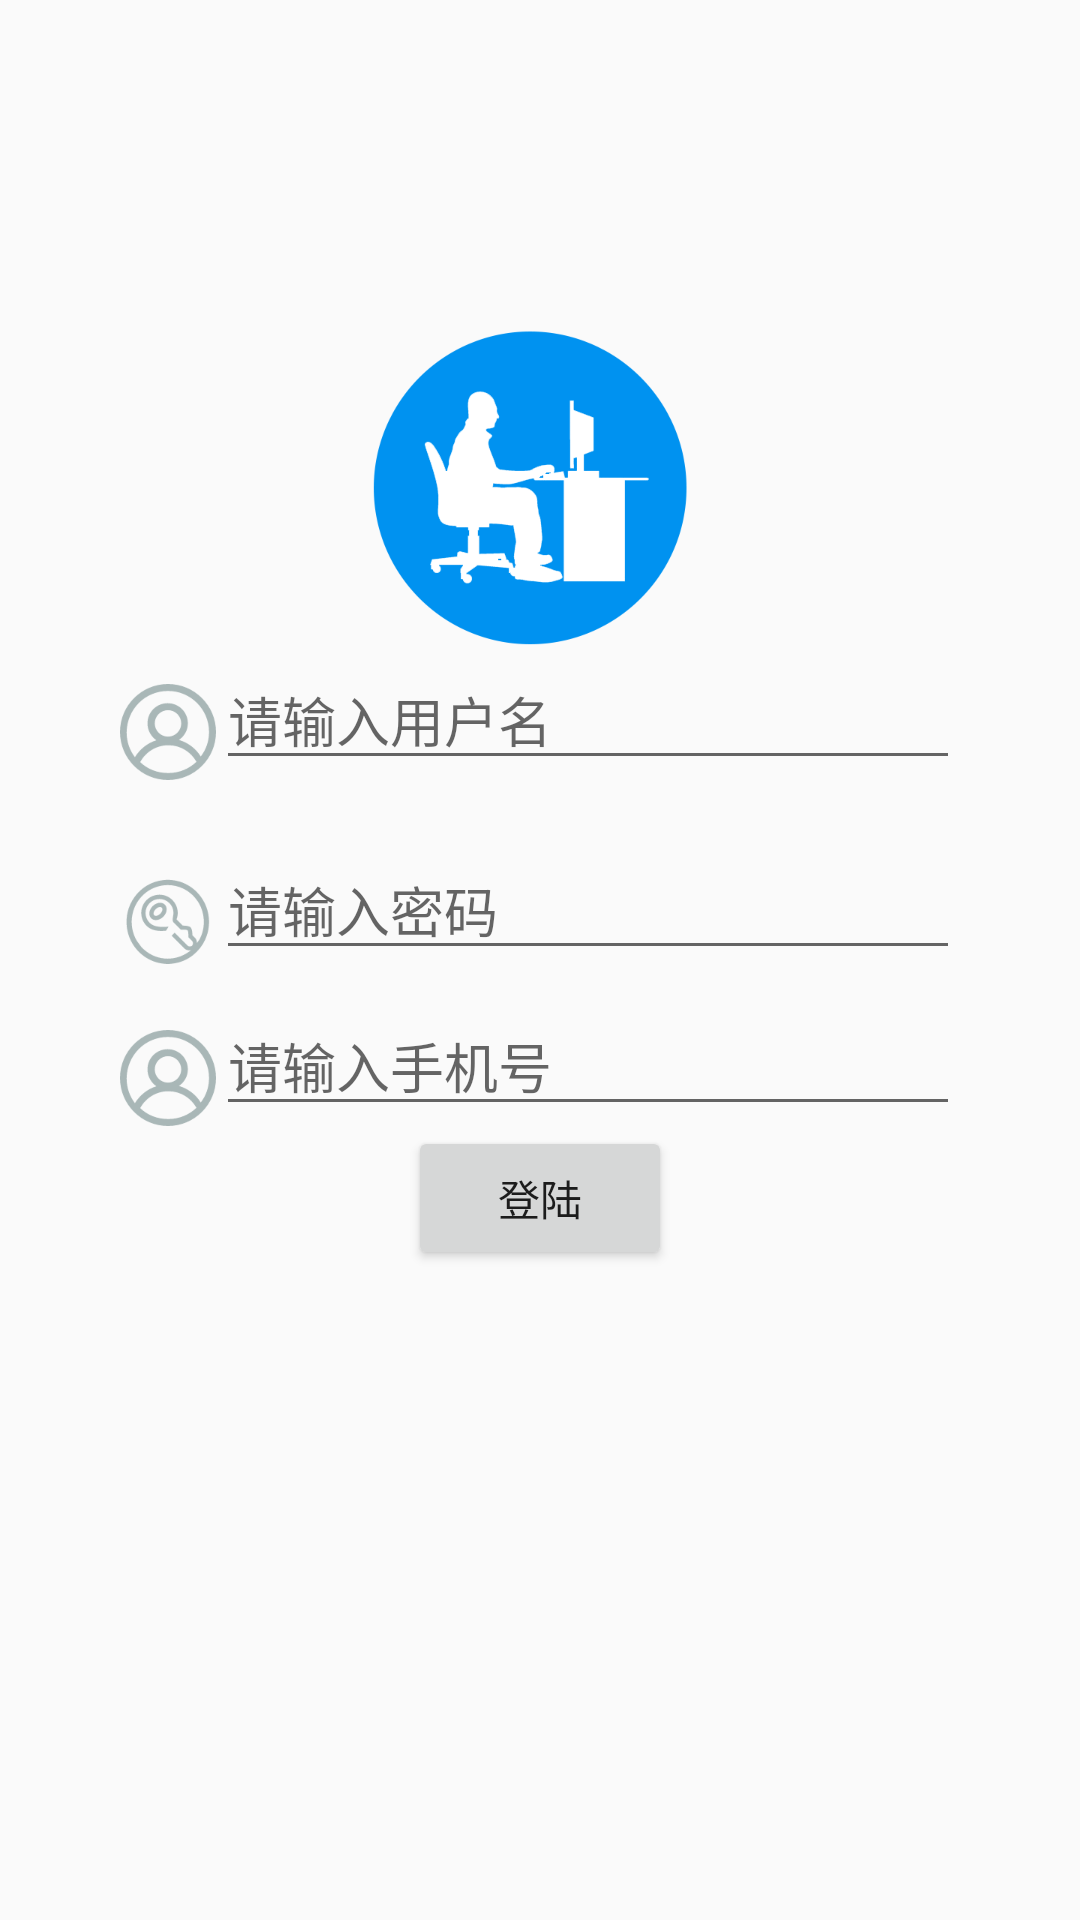

Icons on this 1080px x 1920px Android screen, each with its box as {"x1": x1, "y1": y1, "x2": x2, "y2": y2}:
user name: {"x1": 120, "y1": 684, "x2": 216, "y2": 780}, {"x1": 120, "y1": 1030, "x2": 216, "y2": 1126}
user pwd: {"x1": 126, "y1": 880, "x2": 209, "y2": 964}
